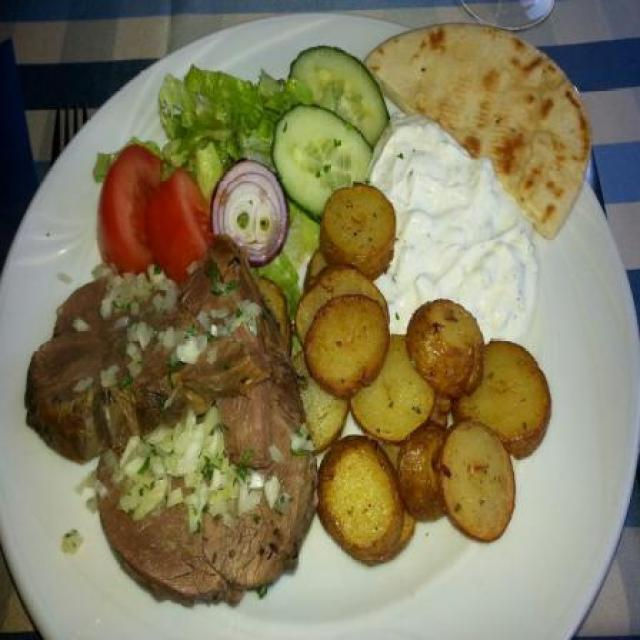Potato: (253, 178, 552, 544), (312, 422, 418, 558), (319, 180, 396, 282)
